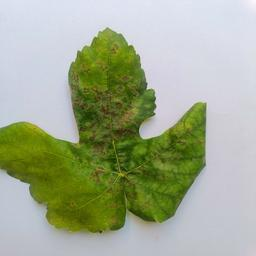Powdery-Mildew: (23, 135, 56, 177), (106, 97, 141, 134), (74, 77, 113, 110), (173, 108, 205, 140), (84, 133, 116, 165), (92, 41, 123, 72), (150, 151, 188, 175), (92, 202, 119, 232)
